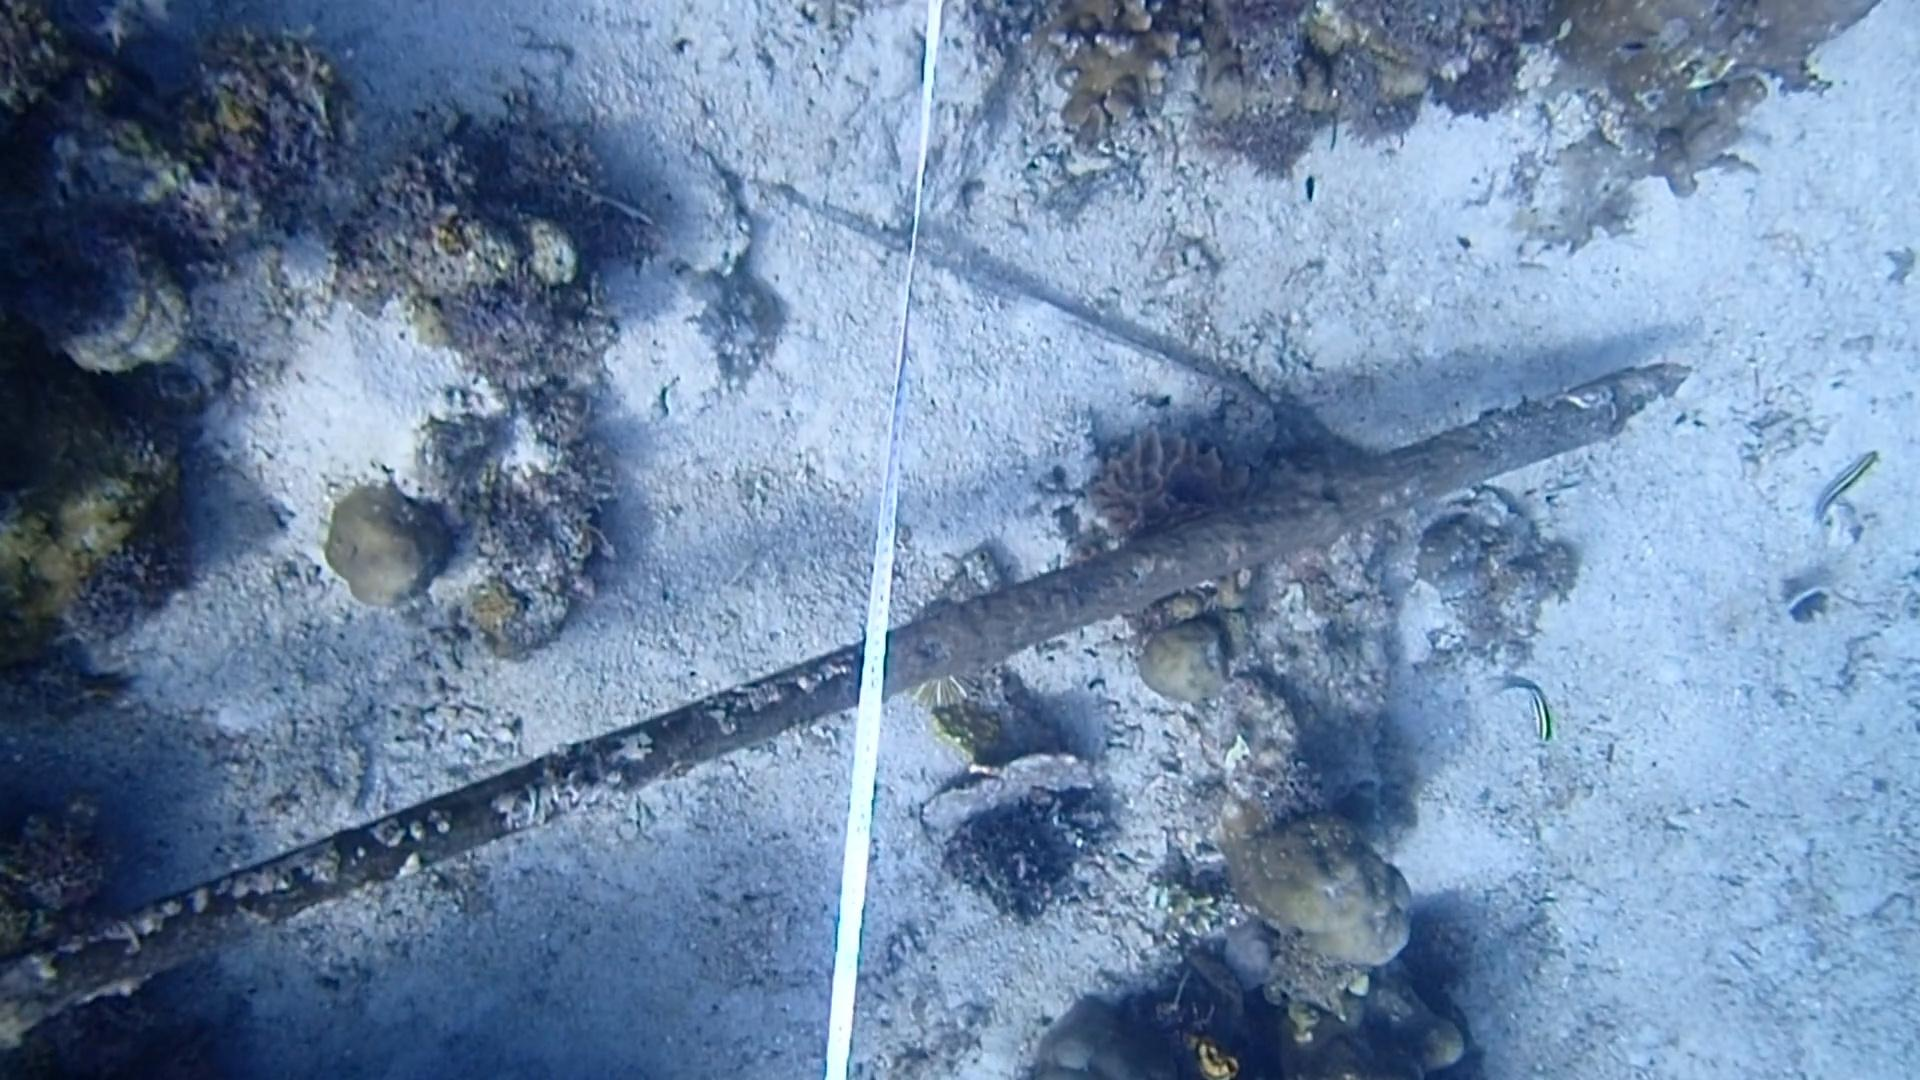Striped Fish: (1804, 443, 1886, 530), (1482, 670, 1563, 753)
